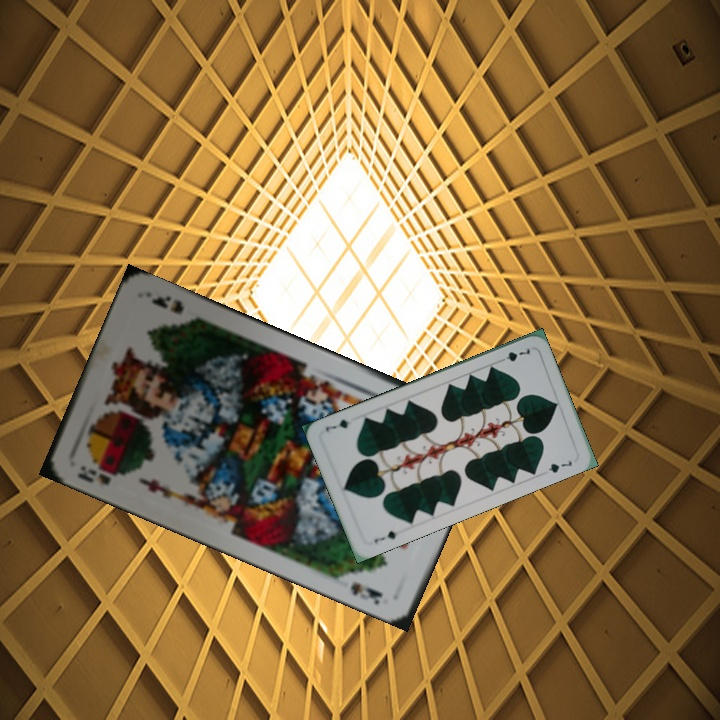G7: (495, 344, 533, 365), (370, 527, 404, 545)
SK: (73, 461, 129, 488)
